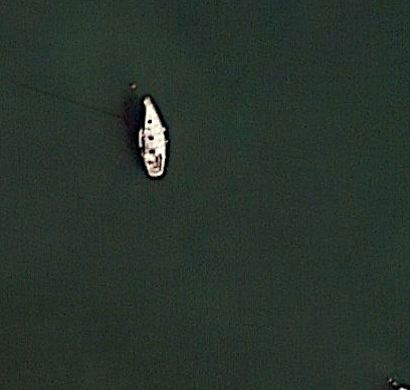boat: (133, 93, 169, 180)
